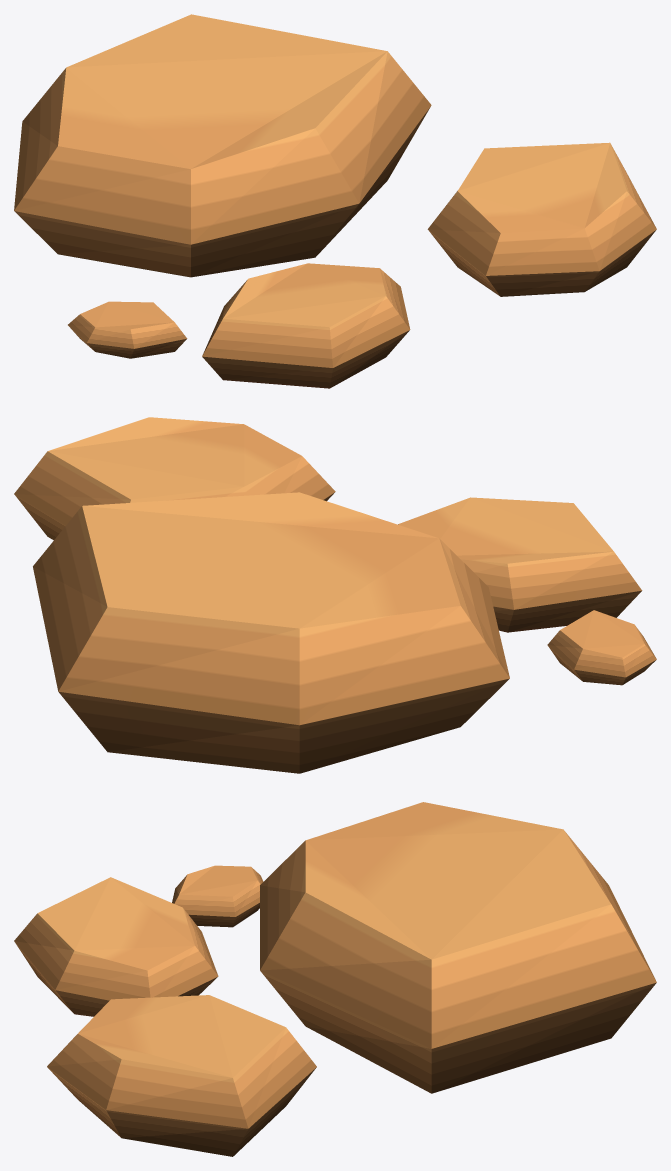
Rendered from rock_010.fbx.
3 views of the same model, one above another, from view 1: azimuth 30°, elevation 25°; view 2: azimuth 150°, elevation 25°; view 3: azimuth 270°, elevation 25° (orthographic). The views are drawn at different scales.
Parts seen in each view (by area): view 1: rock.010; view 2: rock.010; view 3: rock.010.
Part boxes in pixels (x1=…): rock.010: x1=14, y1=14, x2=656, y2=388; rock.010: x1=14, y1=417, x2=656, y2=773; rock.010: x1=14, y1=802, x2=656, y2=1156.
Size of the model in its own units: 30.69 by 7.26 by 29.67.
